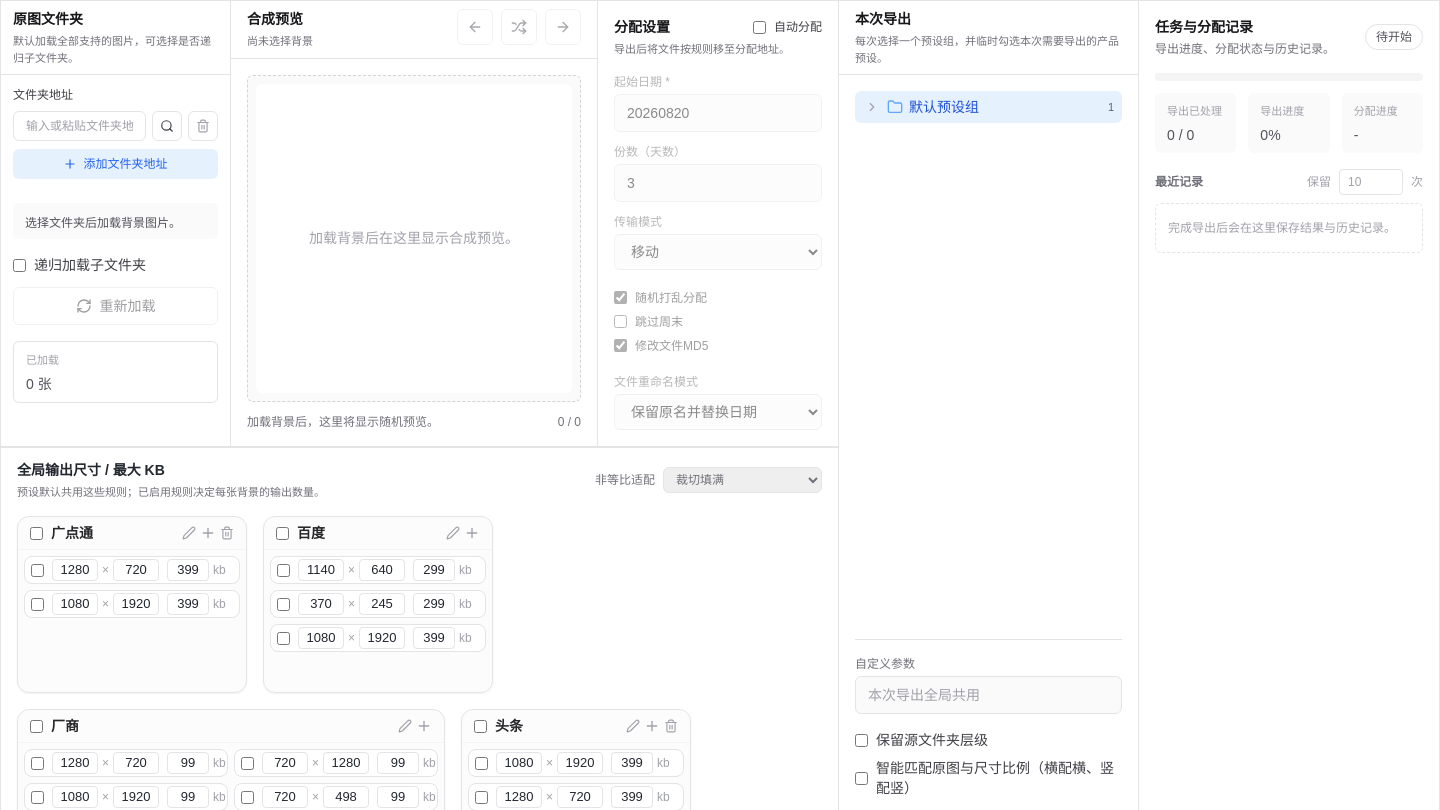
Scenario: BatchExportTab › ignores an older folder scan that resolves after a newer scan
Type "D:/old" into the field with placeholder "输入或粘贴文件夹地址" at (80, 126), box left=13, top=111, right=146, bottom=141
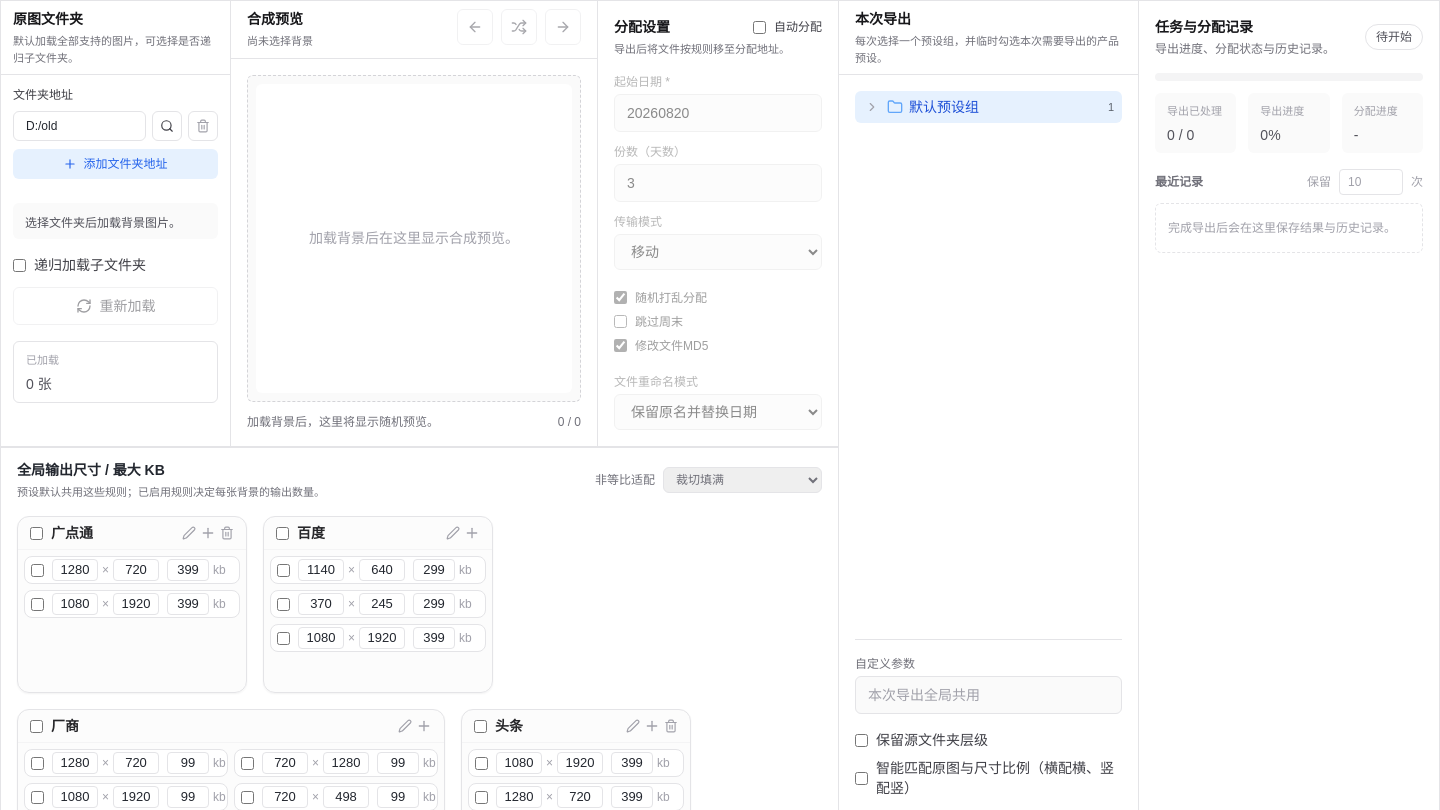
Press Enter in the field named "文件夹地址 1", box left=13, top=111, right=146, bottom=141
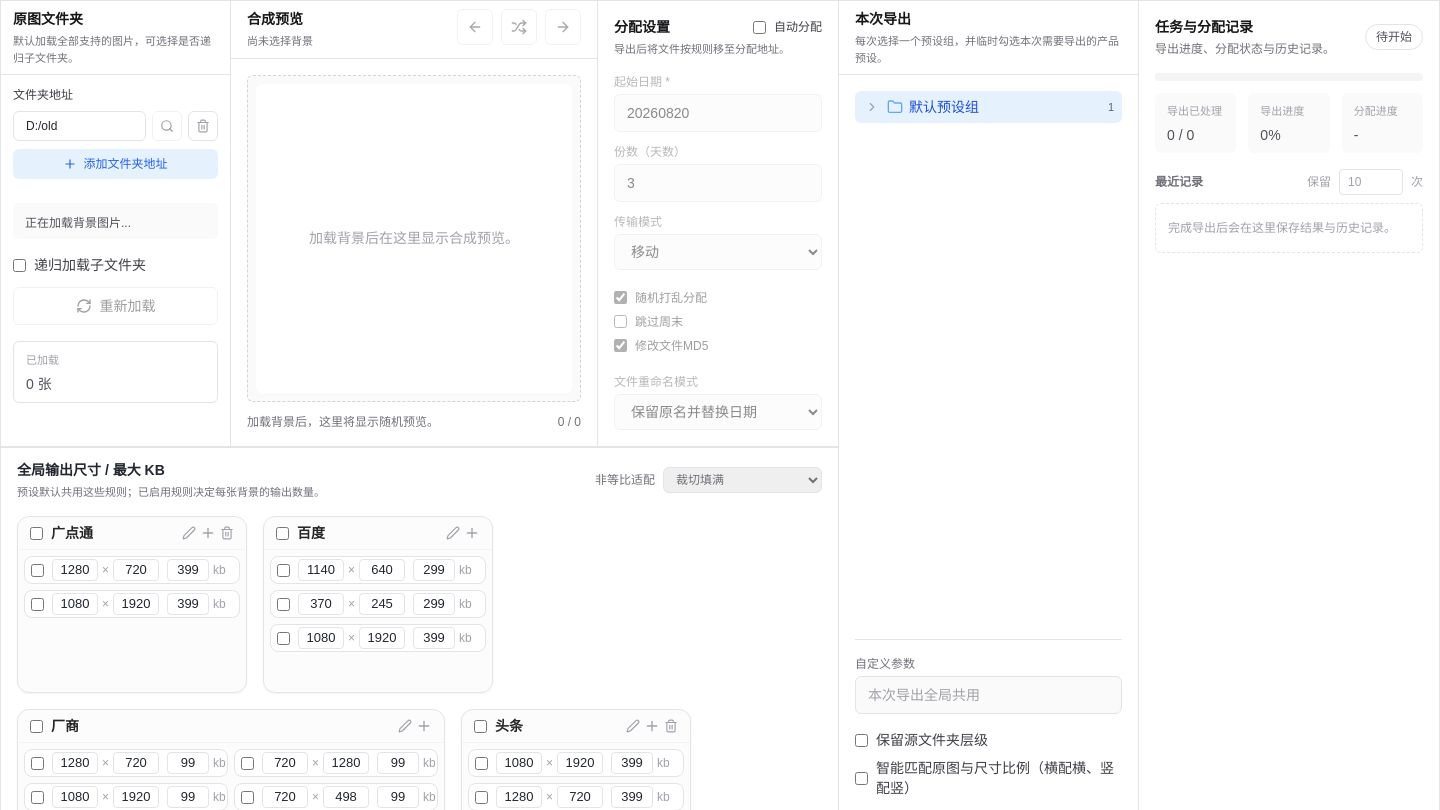
Replace the text in the field named "文件夹地址 1" with "D:/new" at (80, 126), box left=13, top=111, right=146, bottom=141
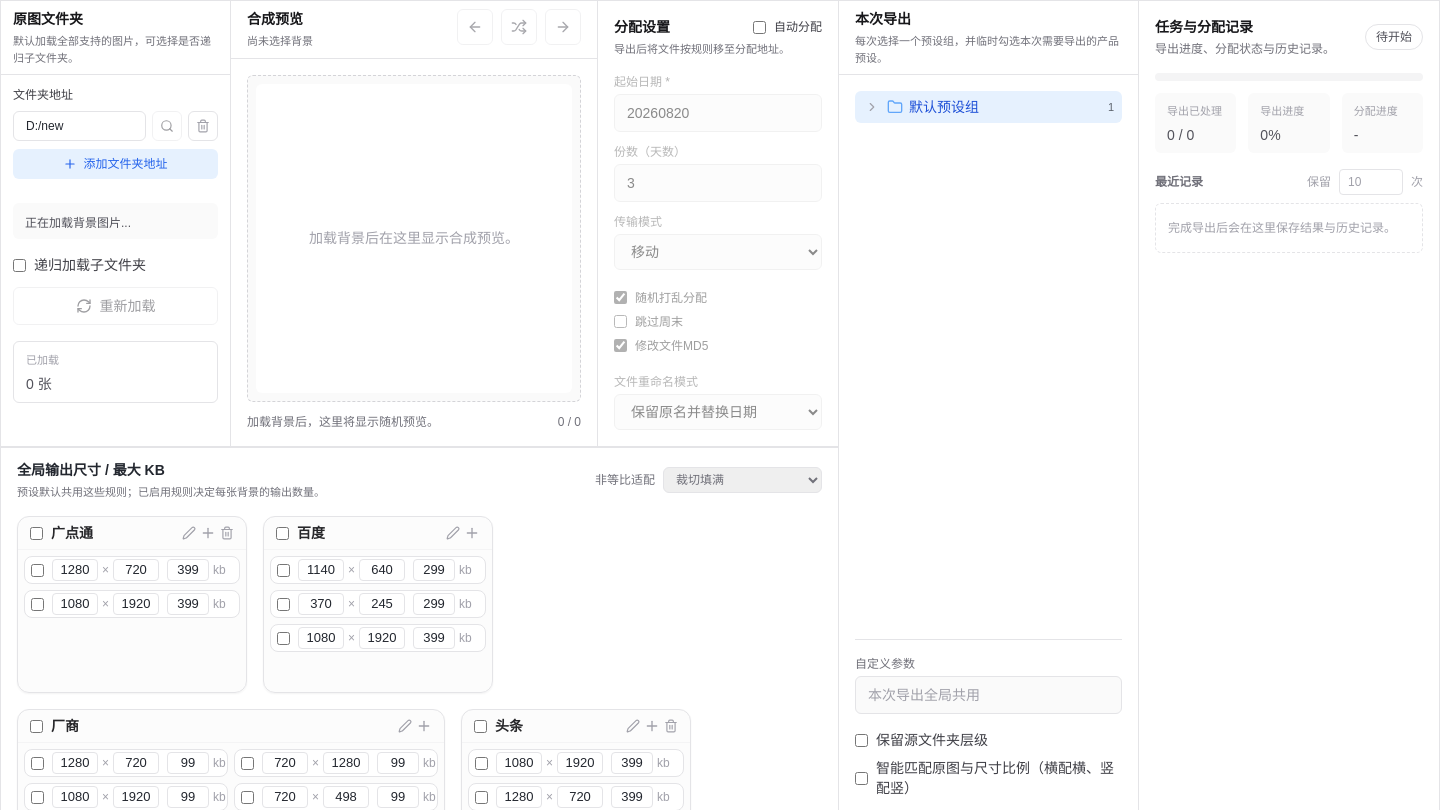
Press Enter in the field named "文件夹地址 1", box left=13, top=111, right=146, bottom=141
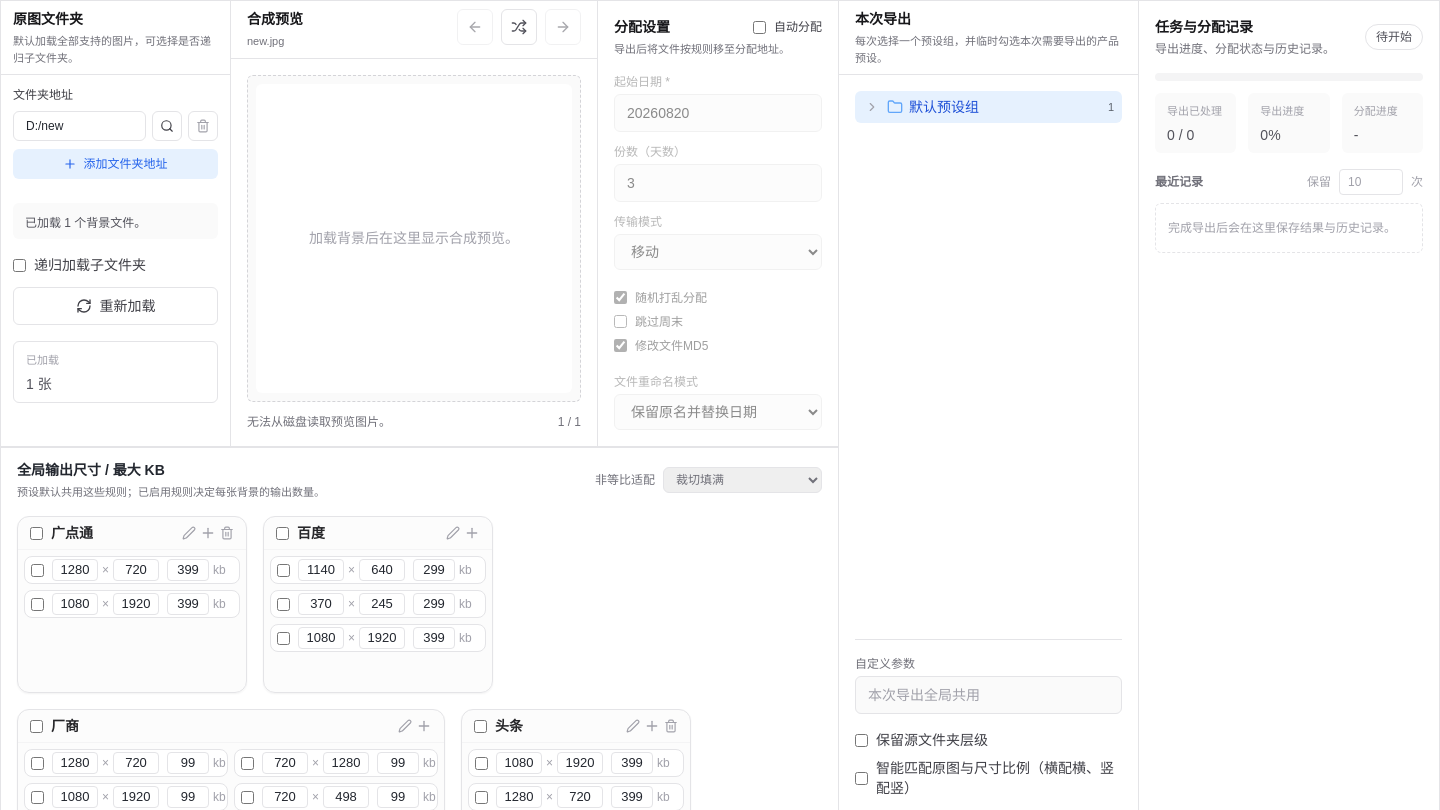
Check: the text "new.jpg" is shown, box left=247, top=35, right=284, bottom=47
